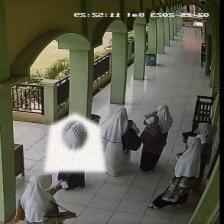Mukena: (43, 113, 106, 171)
